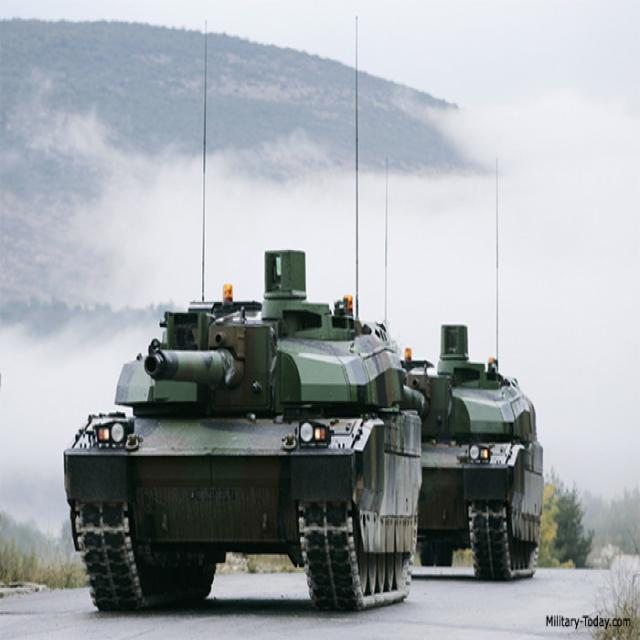Tank: (52, 234, 412, 600), (407, 339, 548, 572)
